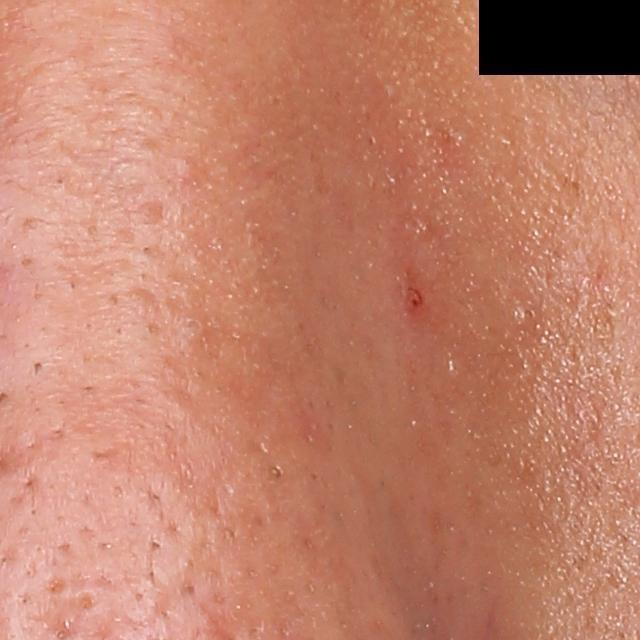comedo: (268, 463, 284, 480), (149, 537, 162, 550)
papule: (395, 263, 438, 327)
